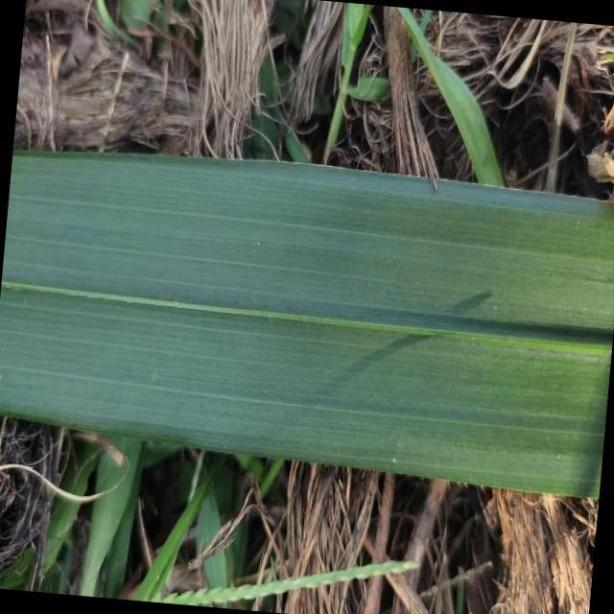Healthy: (1, 153, 614, 498)
